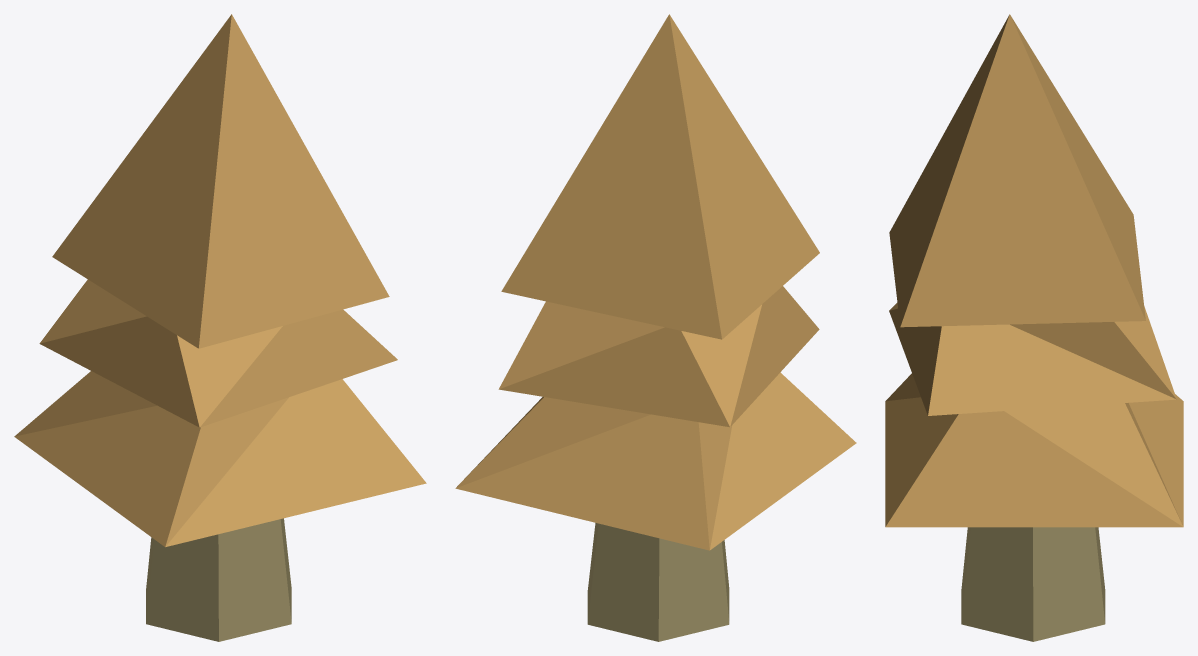
File: Tree_Fall.fbx
The picture shows the model from 3 angles, left to right: view 1: azimuth 30°, elevation 25°; view 2: azimuth 150°, elevation 25°; view 3: azimuth 270°, elevation 25°; orthographic projection. The views are drawn at different scales.
Visible parts, largest first — view 1: polySurface1898; view 2: polySurface1898; view 3: polySurface1898.
Boxes of the visible parts, x1=… form: polySurface1898: x1=14, y1=14, x2=426, y2=641; polySurface1898: x1=455, y1=14, x2=856, y2=641; polySurface1898: x1=885, y1=14, x2=1183, y2=641.
Bounding box in the file's own units: 7.25 × 15.91 × 7.25.
